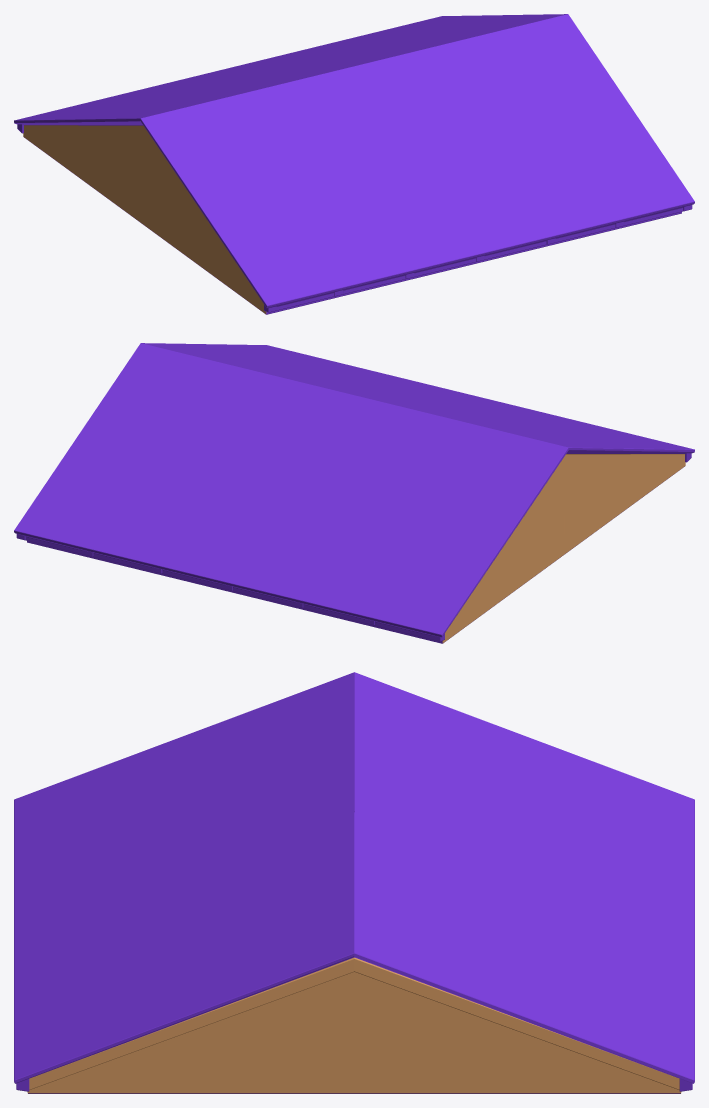
File: BuildingBlock_1_2.fbx
3 views of the same model, one above another, from view 1: azimuth 30°, elevation 25°; view 2: azimuth 150°, elevation 25°; view 3: azimuth 270°, elevation 25° (orthographic). The views are drawn at different scales.
Visible parts, largest first — view 1: BuildingBlock_1_2; view 2: BuildingBlock_1_2; view 3: BuildingBlock_1_2.
Part boxes in pixels (x1,y1,x2,y2): BuildingBlock_1_2: [14, 14, 694, 314]; BuildingBlock_1_2: [14, 343, 694, 643]; BuildingBlock_1_2: [14, 672, 694, 1093].
Size of the model in its own units: 1022 by 248 by 1046.
